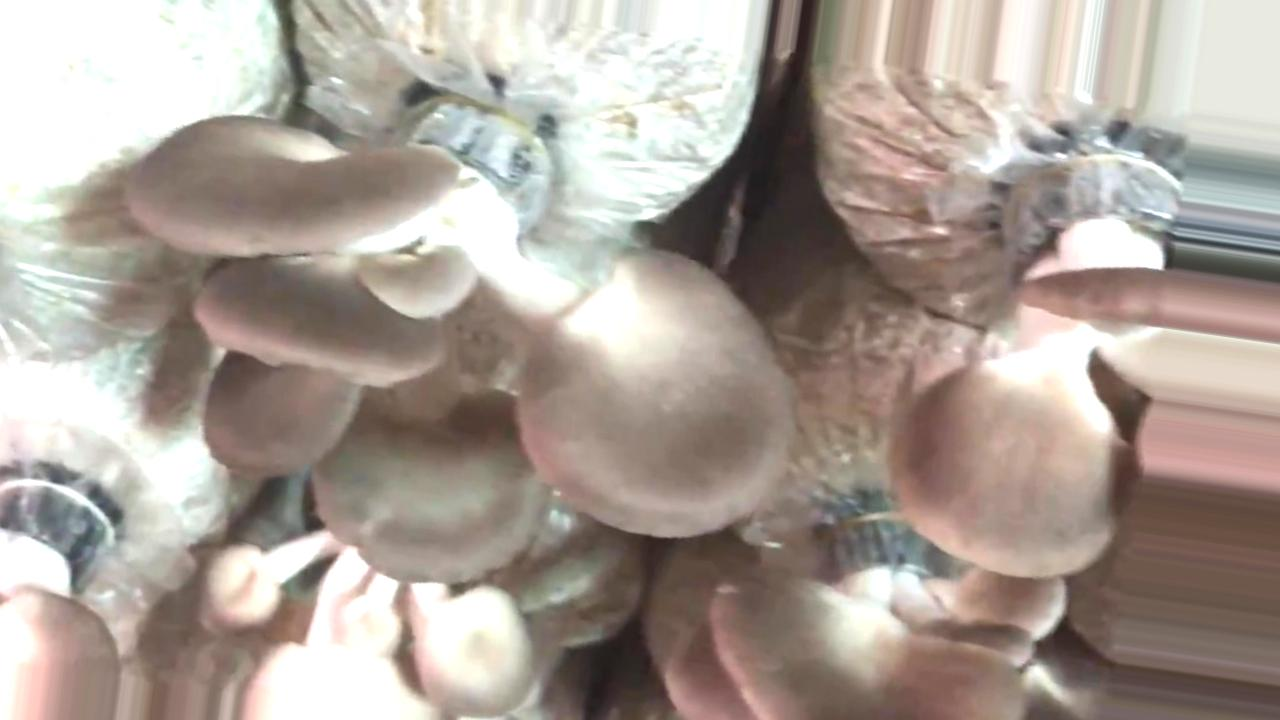nam: (125, 114, 788, 581), (896, 160, 1280, 574), (666, 521, 1064, 720), (211, 534, 534, 720), (1, 480, 118, 719)
